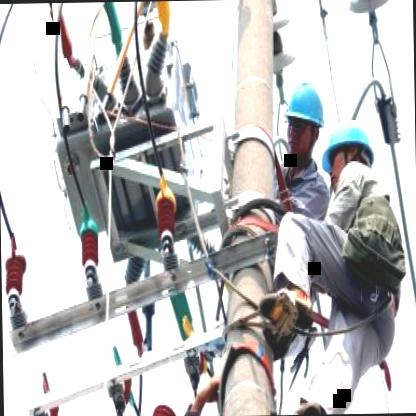helmet: (316, 118, 377, 192), (281, 76, 329, 166)
